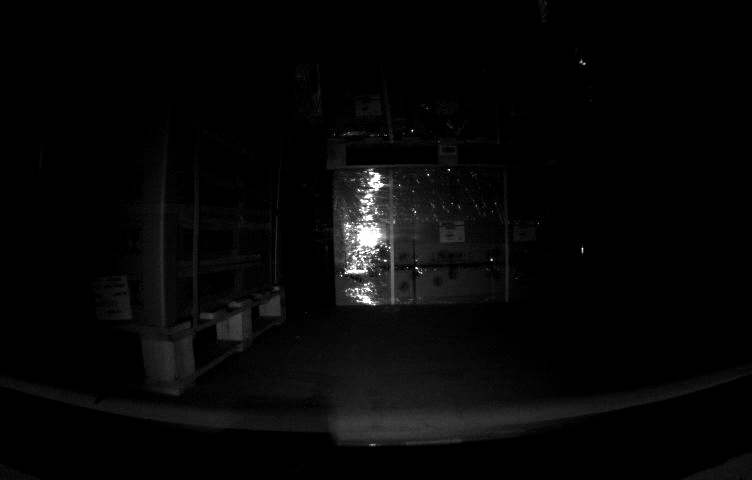True Barcode: (91, 276, 132, 319)
